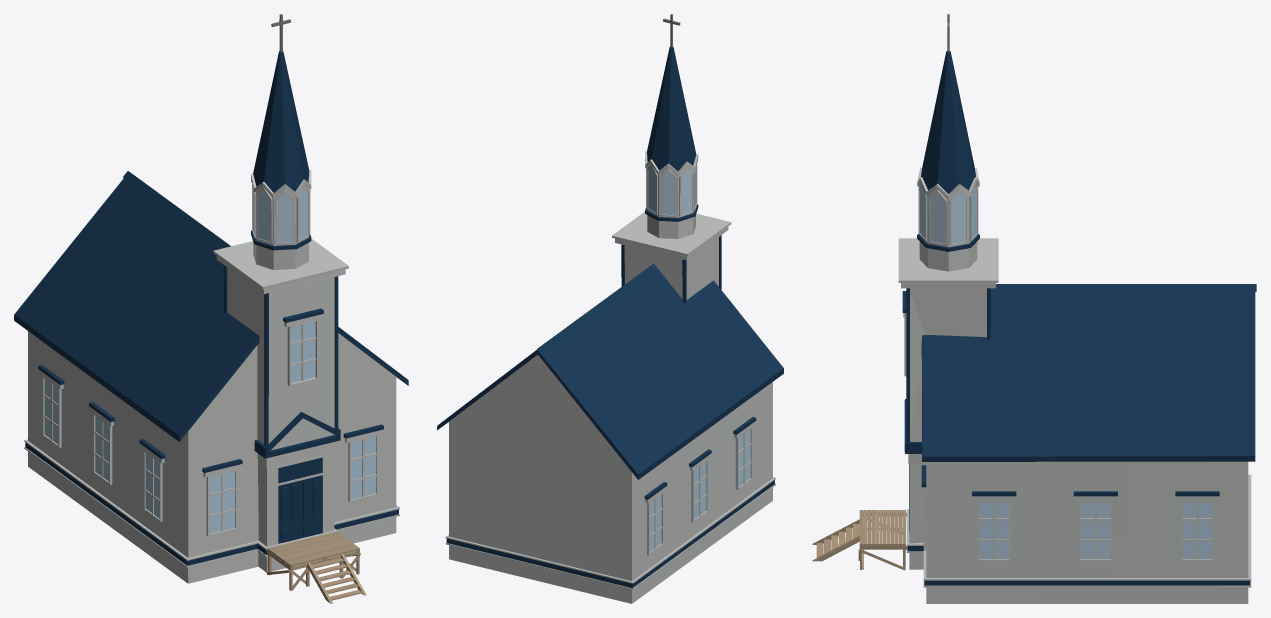
The model's file is kyrka.glb.
3 views of the same model, side by side, from view 1: azimuth 30°, elevation 25°; view 2: azimuth 150°, elevation 25°; view 3: azimuth 270°, elevation 25° (orthographic). The views are drawn at different scales.
Visible parts, largest first — view 1: Church; view 2: Church; view 3: Church.
Boxes of the visible parts, box(x1,y1,x2,y2) form: Church: box(14, 14, 408, 603); Church: box(437, 14, 783, 603); Church: box(812, 14, 1256, 603).
Size of the model in its own units: 0.477 by 1.06 by 0.7958.
Materials: 1 (1 with a texture image).
